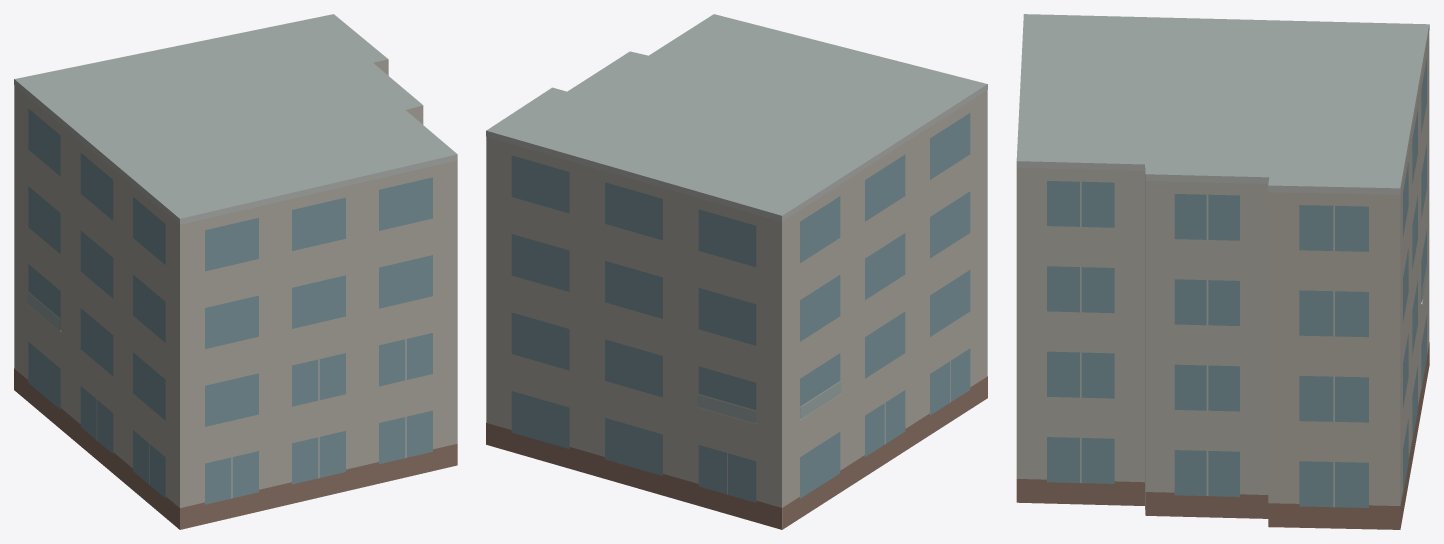
The model's file is survey-upis-32499333.glb.
The picture shows the model from 3 angles, left to right: view 1: azimuth 30°, elevation 25°; view 2: azimuth 150°, elevation 25°; view 3: azimuth 270°, elevation 25°; orthographic projection. The views are drawn at different scales.
Parts seen in each view (by area): view 1: survey-upis-32499333.tmp; view 2: survey-upis-32499333.tmp; view 3: survey-upis-32499333.tmp.
Boxes of the visible parts, x1,y1,x2,y2 form: survey-upis-32499333.tmp: (14,14,457,529); survey-upis-32499333.tmp: (486,14,987,529); survey-upis-32499333.tmp: (1016,14,1429,529).
Size of the model in its own units: 13.91 by 12.7 by 13.92.
